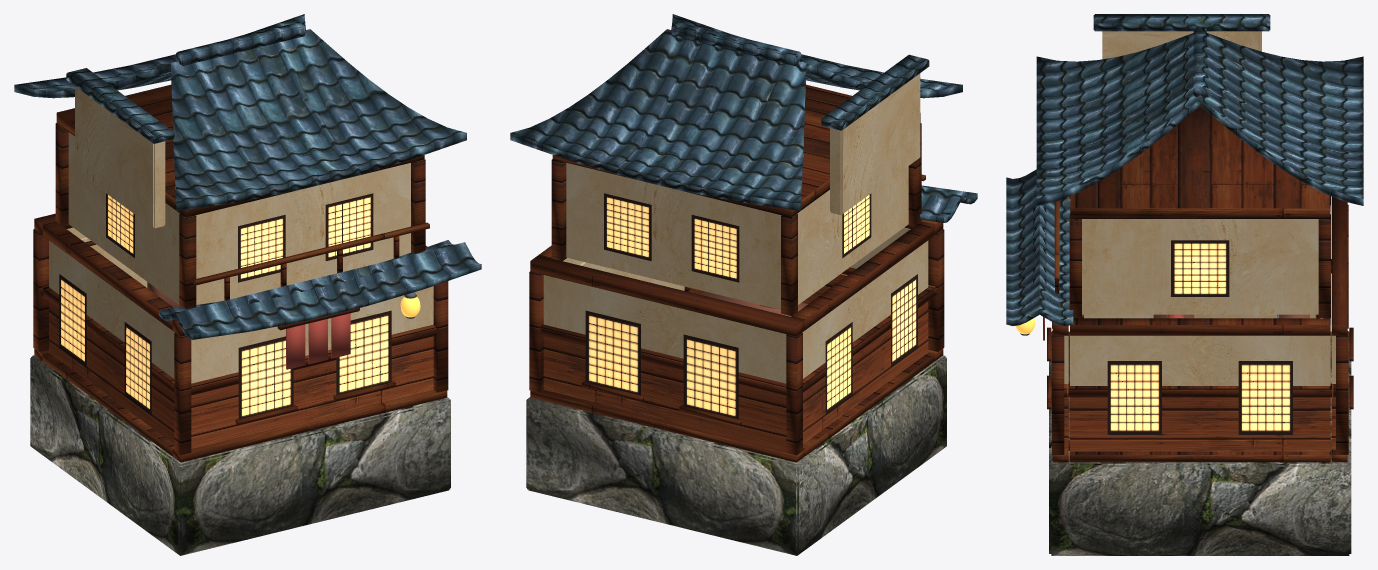
Rendered from machiya_hero_v1.glb.
3 renders of one model, left to right at view 1: azimuth 30°, elevation 25°; view 2: azimuth 150°, elevation 25°; view 3: azimuth 270°, elevation 25°, orthographic.
Visible parts, largest first — view 1: peek_roof_kawara, exterior_stone, peek_upper_plaster, exterior_charred, exterior_cedar, exterior_hisashi, exterior_shoji, exterior_plaster, peek_upper_charred, peek_upper_shoji, exterior_noren; view 2: peek_roof_kawara, exterior_stone, peek_upper_plaster, exterior_charred, exterior_plaster, exterior_cedar, exterior_shoji, peek_upper_charred, peek_upper_shoji, exterior_hisashi; view 3: peek_roof_kawara, exterior_stone, peek_upper_plaster, peek_upper_charred, exterior_charred, exterior_plaster, exterior_cedar, exterior_hisashi, exterior_shoji, peek_upper_shoji, interior_room_walls.
Boxes of the visible parts, left/top/right/bottom form: peek_roof_kawara: left=14, top=14, right=466, bottom=210; exterior_stone: left=30, top=355, right=450, bottom=555; peek_upper_plaster: left=68, top=86, right=410, bottom=304; exterior_charred: left=33, top=213, right=448, bottom=462; exterior_cedar: left=49, top=301, right=433, bottom=448; exterior_hisashi: left=159, top=240, right=481, bottom=339; exterior_shoji: left=59, top=274, right=391, bottom=419; exterior_plaster: left=49, top=227, right=433, bottom=383; peek_upper_charred: left=55, top=84, right=429, bottom=308; peek_upper_shoji: left=106, top=193, right=373, bottom=282; exterior_noren: left=286, top=313, right=350, bottom=369; peek_roof_kawara: left=510, top=14, right=962, bottom=210; exterior_stone: left=526, top=355, right=946, bottom=555; peek_upper_plaster: left=566, top=73, right=920, bottom=309; exterior_charred: left=529, top=220, right=944, bottom=462; exterior_plaster: left=543, top=227, right=928, bottom=383; exterior_cedar: left=543, top=273, right=928, bottom=448; exterior_shoji: left=585, top=274, right=917, bottom=419; peek_upper_charred: left=551, top=84, right=925, bottom=315; peek_upper_shoji: left=604, top=193, right=871, bottom=282; exterior_hisashi: left=920, top=185, right=977, bottom=222; peek_roof_kawara: left=1036, top=14, right=1363, bottom=205; exterior_stone: left=1049, top=331, right=1351, bottom=555; peek_upper_plaster: left=1082, top=31, right=1318, bottom=314; peek_upper_charred: left=1054, top=106, right=1330, bottom=317; exterior_charred: left=1047, top=196, right=1353, bottom=462; exterior_plaster: left=1064, top=212, right=1335, bottom=385; exterior_cedar: left=1064, top=314, right=1335, bottom=451; exterior_hisashi: left=1006, top=169, right=1073, bottom=325; exterior_shoji: left=1107, top=361, right=1292, bottom=434; peek_upper_shoji: left=1171, top=240, right=1229, bottom=296; interior_room_walls: left=1084, top=314, right=1322, bottom=318.
Size of the model in its own units: 4.63 by 6.55 by 4.91.
16 materials, 10 textured.
